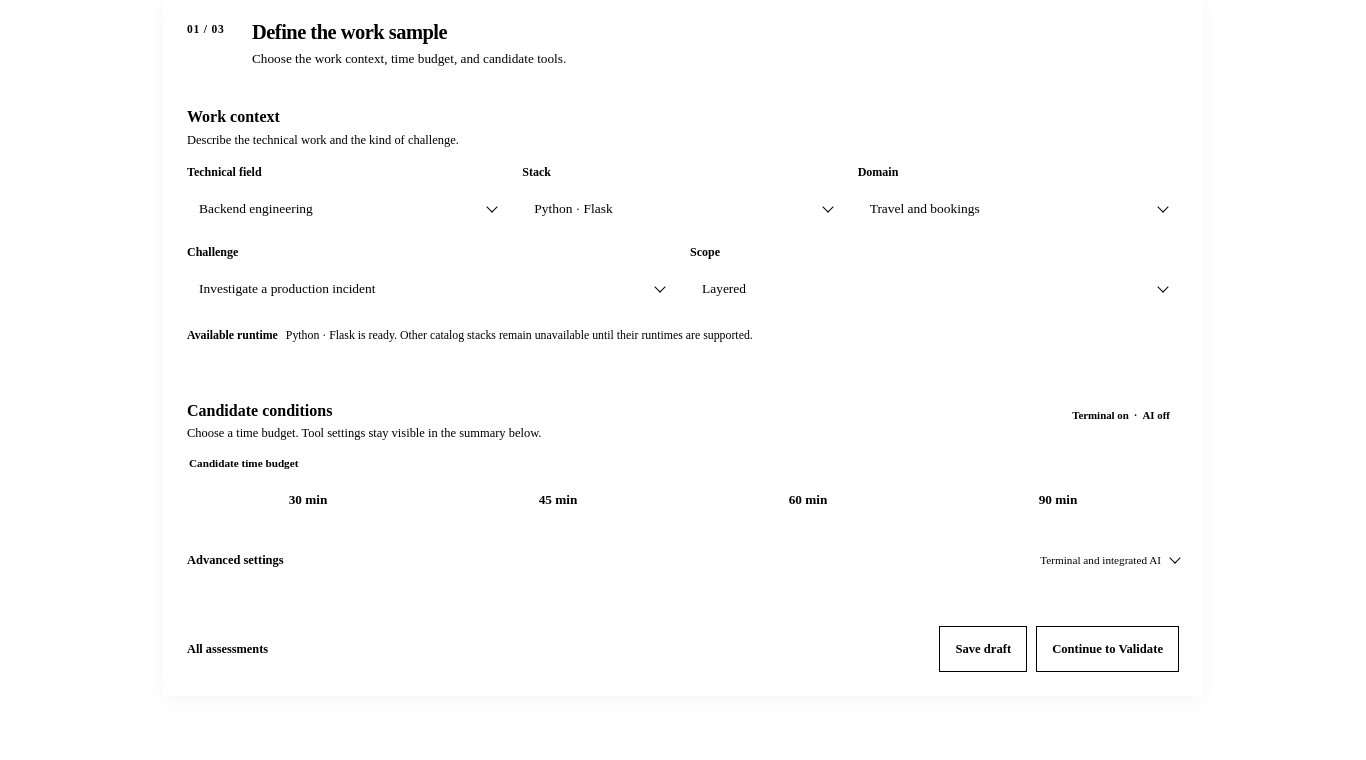
Test: assessment builder › routes evaluator access failures safely and does not offer a provider retry before access
(page scrolled)
Step 1. Click the button "Continue to Validate" → (1108, 650), box [1036, 626, 1179, 672]
(page scrolled)
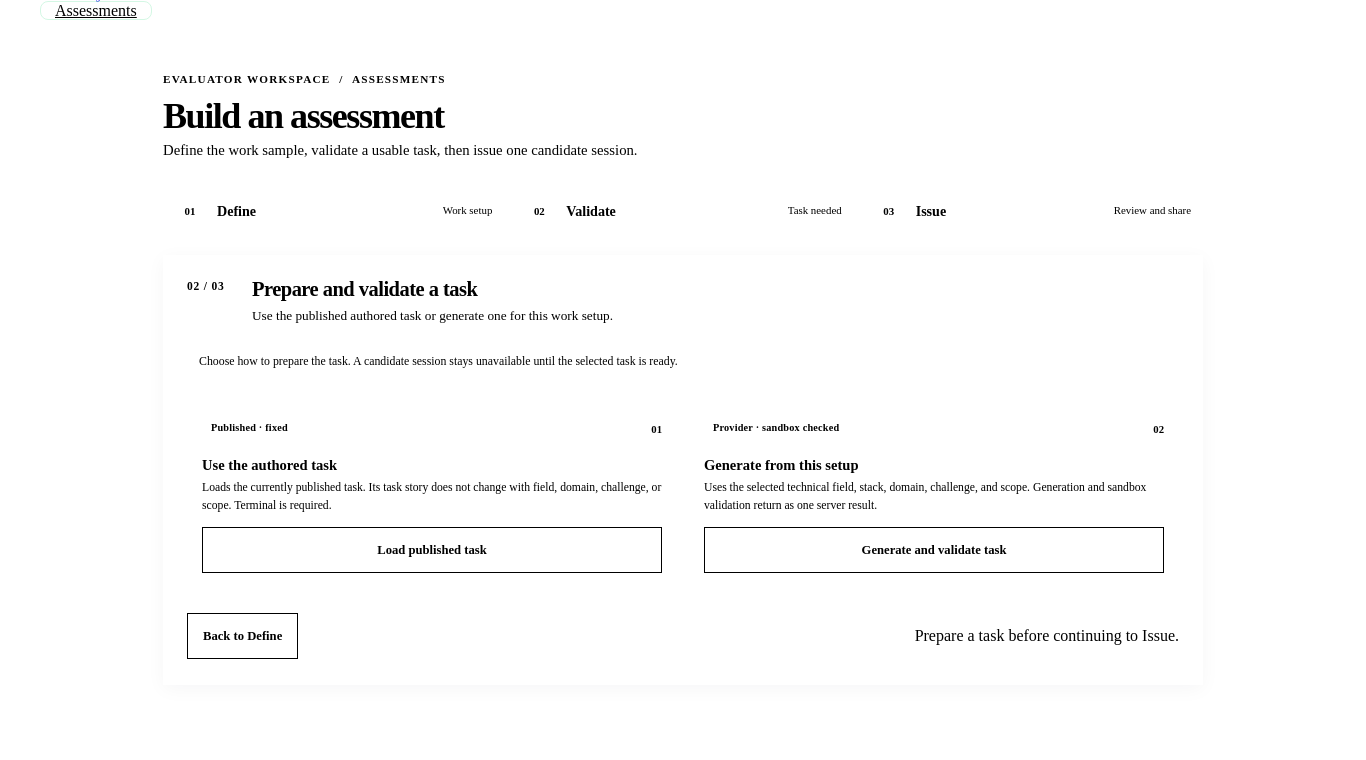
Step 2. Click the button "Generate and validate task" → (934, 550), box [704, 527, 1164, 573]
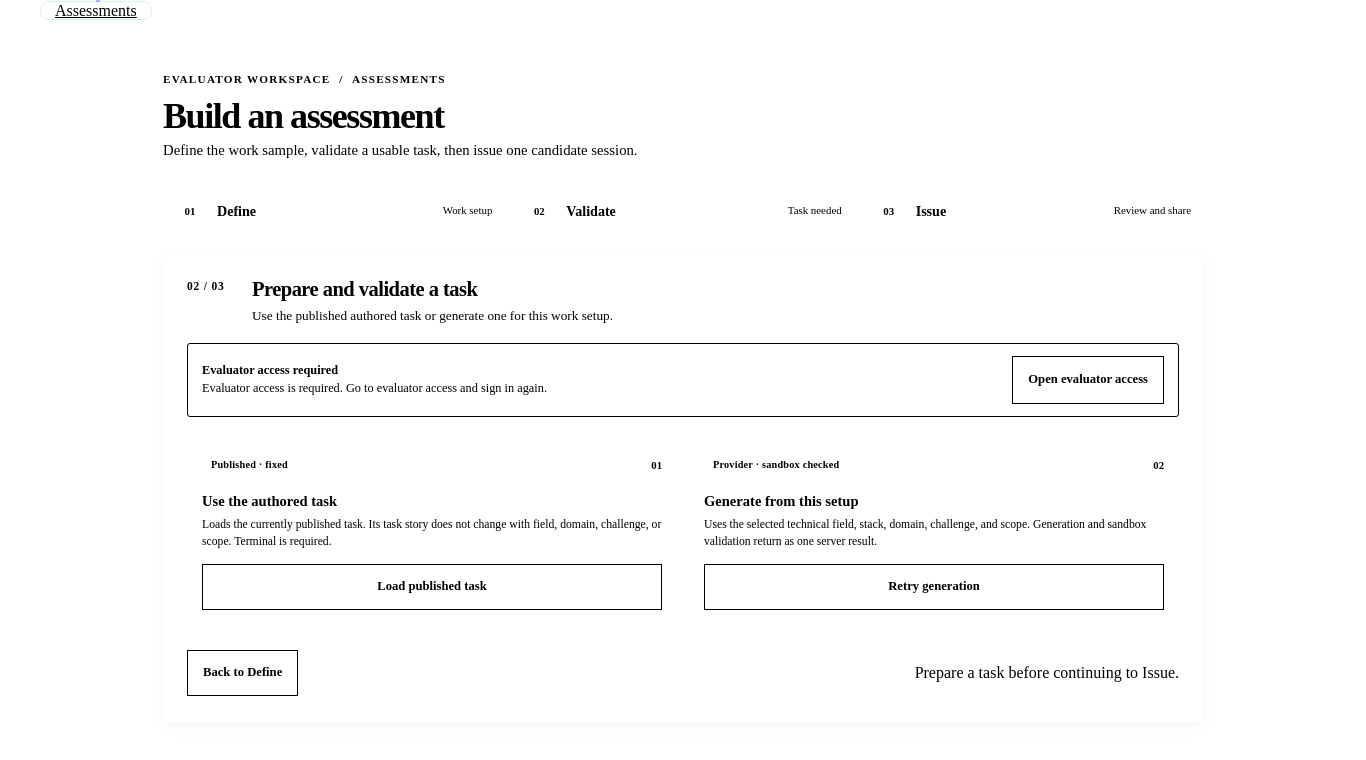
Expected: the text "Evaluator access is required" is shown, [202, 381, 547, 395]
Expected: the button "Retry generation" is disabled, [704, 564, 1164, 610]
